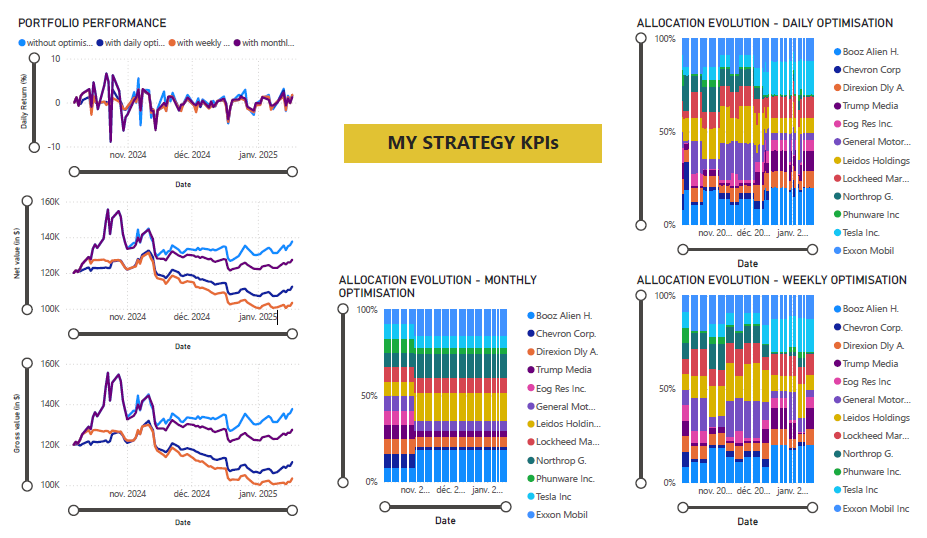

The page's visual inventory and layout, read from the dashboard file:
{"tool":"powerbi","page":{"name":"MyPortfolio","canvas":[1280,720],"ordinal":0},"visuals":[{"type":"lineChart","title":"PORTFOLIO PERFORMANCE","fields":{"Category":["public combined_portfolios.timestamp"],"Y":["Sum(public combined_portfolios.portfolio_return_1)","Sum(public combined_portfolios.portfolio_return_2)","Sum(public combined_portfolios.portfolio_return_3)","Sum(public combined_portfolios.portfolio_return_4)"]},"box":[10.5,0,420.4,246.8],"z":0},{"type":"lineChart","fields":{"Category":["public combined_portfolios.timestamp"],"Y":["Sum(public combined_portfolios.net_portfolio_value_1)","Sum(public combined_portfolios.net_portfolio_value_2)","Sum(public combined_portfolios.net_portfolio_value_3)","Sum(public combined_portfolios.net_portfolio_value_4)"]},"box":[0,246.6,431,227.6],"z":1000},{"type":"lineChart","fields":{"Category":["public combined_portfolios.timestamp"],"Y":["Sum(public combined_portfolios.gross_portfolio_value_1)","Sum(public combined_portfolios.gross_portfolio_value_2)","Sum(public combined_portfolios.gross_portfolio_value_3)","Sum(public combined_portfolios.gross_portfolio_value_4)"]},"box":[0,474.1,431,246.6],"z":2000},{"type":"hundredPercentStackedColumnChart","title":"ALLOCATION EVOLUTION - DAILY OPTIMISATION","fields":{"Category":["public combined_portfolios.timestamp"],"Y":["Sum(public combined_portfolios.bah_stocks_weight_2)","Sum(public combined_portfolios.cvx_stocks_weight_2)","Sum(public combined_portfolios.dfen_stocks_weight_2)","Sum(public combined_portfolios.djt_stocks_weight_2)","Sum(public combined_portfolios.eog_stocks_weight_2)","Sum(public combined_portfolios.gm_stocks_weight_2)","Sum(public combined_portfolios.ldos_stocks_weight_2)","Sum(public combined_portfolios.lmt_stocks_weight_2)","Sum(public combined_portfolios.noc_stocks_weight_2)","Sum(public combined_portfolios.phun_stocks_weight_2)","Sum(public combined_portfolios.tsla_stocks_weight_2)","Sum(public combined_portfolios.xom_stocks_weight_2)"]},"box":[875.5,0,403.2,360],"z":3000},{"type":"hundredPercentStackedColumnChart","title":"ALLOCATION EVOLUTION - WEEKLY OPTIMISATION","fields":{"Category":["public combined_portfolios.timestamp"],"Y":["Sum(public combined_portfolios.bah_stocks_weight_3)","Sum(public combined_portfolios.cvx_stocks_weight_3)","Sum(public combined_portfolios.dfen_stocks_weight_3)","Sum(public combined_portfolios.djt_stocks_weight_3)","Sum(public combined_portfolios.eog_stocks_weight_3)","Sum(public combined_portfolios.gm_stocks_weight_3)","Sum(public combined_portfolios.ldos_stocks_weight_3)","Sum(public combined_portfolios.lmt_stocks_weight_3)","Sum(public combined_portfolios.noc_stocks_weight_3)","Sum(public combined_portfolios.phun_stocks_weight_3)","Sum(public combined_portfolios.tsla_stocks_weight_3)","Sum(public combined_portfolios.xom_stocks_weight_3)"]},"box":[876.2,360.3,403.2,360.3],"z":4000},{"type":"hundredPercentStackedColumnChart","title":"ALLOCATION EVOLUTION - MONTHLY OPTIMISATION","fields":{"Category":["public combined_portfolios.timestamp"],"Y":["Sum(public combined_portfolios.bah_stocks_weight_4)","Sum(public combined_portfolios.cvx_stocks_weight_4)","Sum(public combined_portfolios.dfen_stocks_weight_4)","Sum(public combined_portfolios.djt_stocks_weight_4)","Sum(public combined_portfolios.eog_stocks_weight_4)","Sum(public combined_portfolios.gm_stocks_weight_4)","Sum(public combined_portfolios.ldos_stocks_weight_4)","Sum(public combined_portfolios.lmt_stocks_weight_4)","Sum(public combined_portfolios.noc_stocks_weight_4)","Sum(public combined_portfolios.phun_stocks_weight_4)","Sum(public combined_portfolios.tsla_stocks_weight_4)","Sum(public combined_portfolios.xom_stocks_weight_4)"]},"box":[459.4,360,385.9,360],"z":5000},{"type":"textbox","box":[472.3,152.6,360,53.3],"z":6000}]}

Visuals, with their boxes in screenshot pixels (x1, y1, x2, y2):
"PORTFOLIO PERFORMANCE" lineChart: Rect(22, 0, 322, 169)
lineChart - public combined_portfolios.timestamp x Sum(public combined_portfolios.net_portfolio_value_1): Rect(14, 169, 322, 331)
lineChart - public combined_portfolios.timestamp x Sum(public combined_portfolios.gross_portfolio_value_1): Rect(14, 331, 322, 507)
"ALLOCATION EVOLUTION - DAILY OPTIMISATION" hundredPercentStackedColumnChart: Rect(640, 0, 926, 250)
"ALLOCATION EVOLUTION - WEEKLY OPTIMISATION" hundredPercentStackedColumnChart: Rect(640, 250, 926, 507)
"ALLOCATION EVOLUTION - MONTHLY OPTIMISATION" hundredPercentStackedColumnChart: Rect(343, 250, 618, 507)
textbox: Rect(352, 102, 609, 140)
